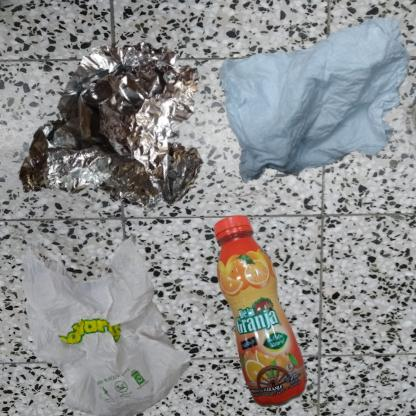aluminio: (10, 10, 265, 281)
bolsa: (10, 213, 213, 416)
botella: (213, 213, 308, 412)
papel: (213, 10, 416, 193)
